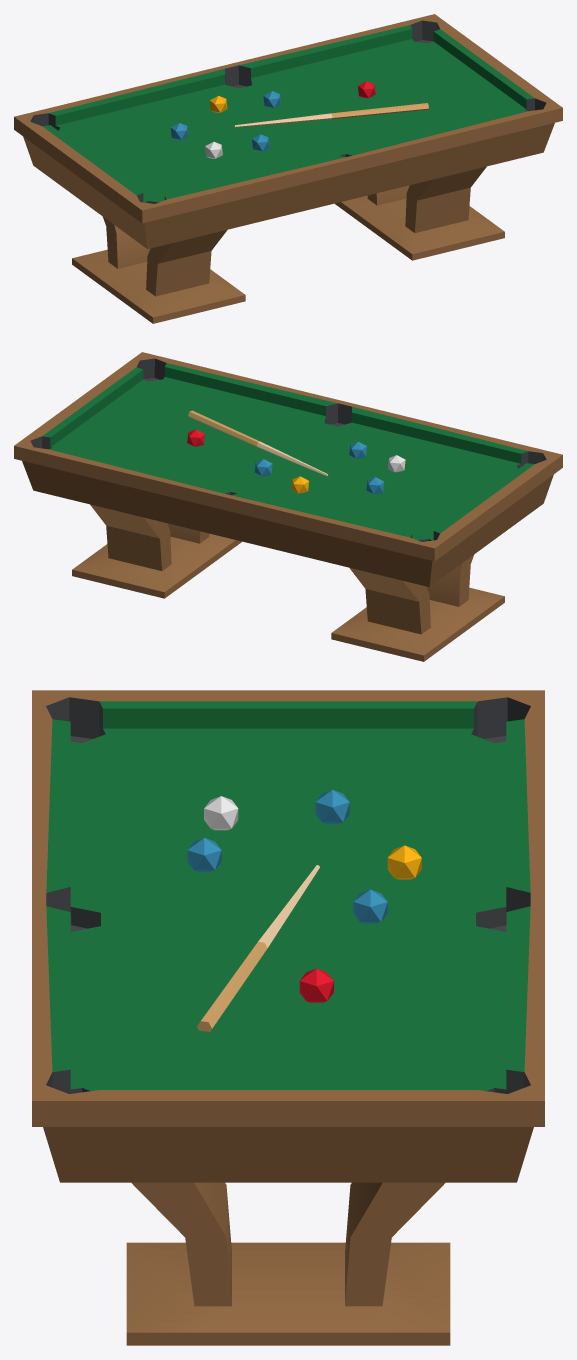
File: Billiards.fbx
The picture shows the model from 3 angles, top to bottom: view 1: azimuth 30°, elevation 25°; view 2: azimuth 150°, elevation 25°; view 3: azimuth 270°, elevation 25°; orthographic projection. The views are drawn at different scales.
Parts seen in each view (by area): view 1: Cube.013, Cylinder; view 2: Cube.013, Cylinder; view 3: Cube.013, Cylinder, Icosphere.005, Icosphere, Icosphere.004, Icosphere.003, Icosphere.001, Icosphere.002.
Part boxes in pixels (x1,y1,x2,y2): Cube.013: [14, 14, 562, 323]; Cylinder: [234, 103, 428, 127]; Cube.013: [14, 352, 562, 661]; Cylinder: [188, 410, 327, 475]; Cube.013: [32, 690, 544, 1345]; Cylinder: [197, 865, 319, 1031]; Icosphere.005: [204, 796, 238, 830]; Icosphere: [353, 889, 387, 923]; Icosphere.004: [387, 845, 421, 879]; Icosphere.003: [299, 968, 333, 1002]; Icosphere.001: [315, 789, 349, 823]; Icosphere.002: [187, 838, 221, 871].
Bounding box in the file's own units: 363 × 119 × 192.
